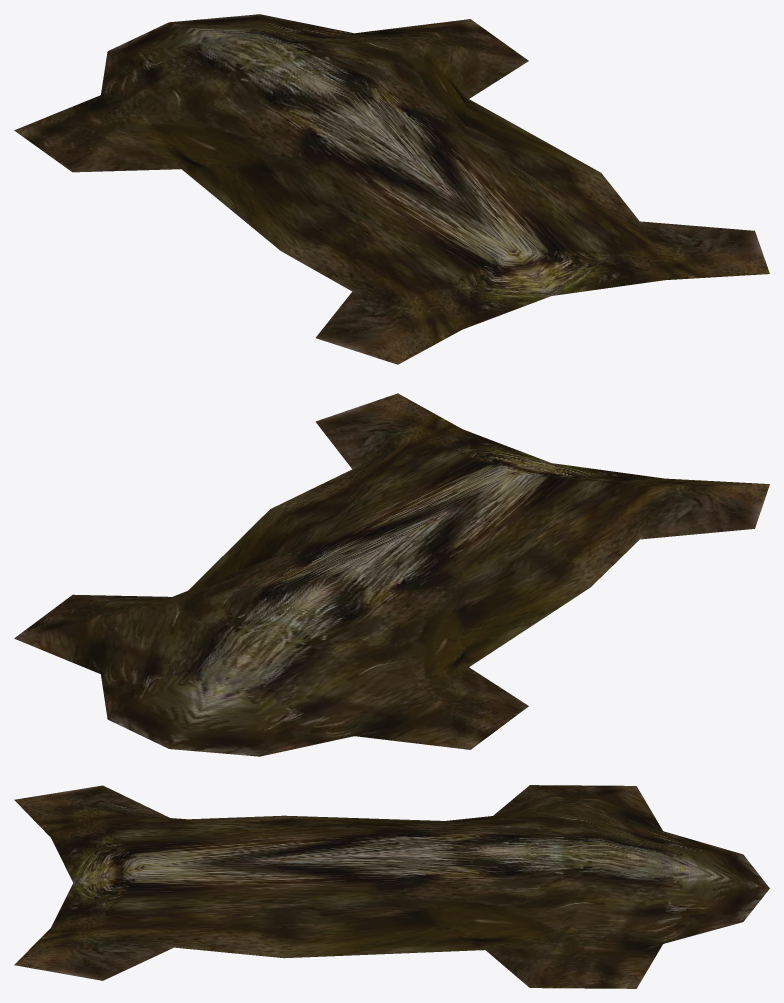
Rendered from ITAT_WARGFUR.glb.
The picture shows the model from 3 angles, top to bottom: view 1: azimuth 30°, elevation 25°; view 2: azimuth 150°, elevation 25°; view 3: azimuth 270°, elevation 25°; orthographic projection. The views are drawn at different scales.
Parts seen in each view (by area): view 1: ITAT_WARGFUR; view 2: ITAT_WARGFUR; view 3: ITAT_WARGFUR.
Boxes of the visible parts, x1=… form: ITAT_WARGFUR: x1=14, y1=14, x2=769, y2=364; ITAT_WARGFUR: x1=14, y1=393, x2=769, y2=756; ITAT_WARGFUR: x1=14, y1=785, x2=769, y2=988.
Size of the model in its own units: 1.08 by 0.1031 by 1.7.
Materials: 1 (1 with a texture image).
